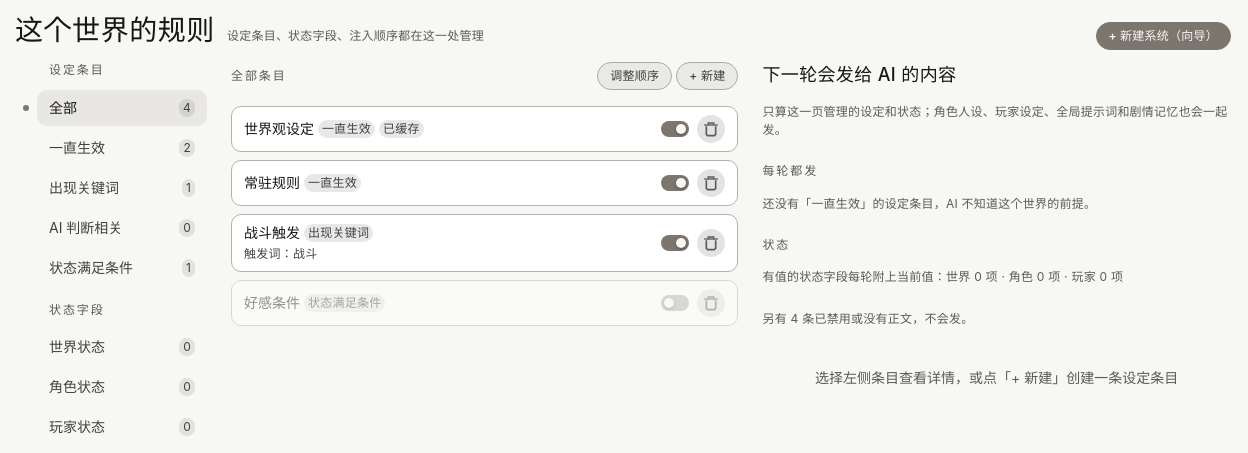
Test case: RulesPage › 点击状态条件后中栏只显示对应条目
This screenshot has width=1248, height=453.
What coordinates should you click on to do the following:
click the button with test id "nav-entries-state"
I would click on:
 (122, 268)
Its box is [37,250,207,286].
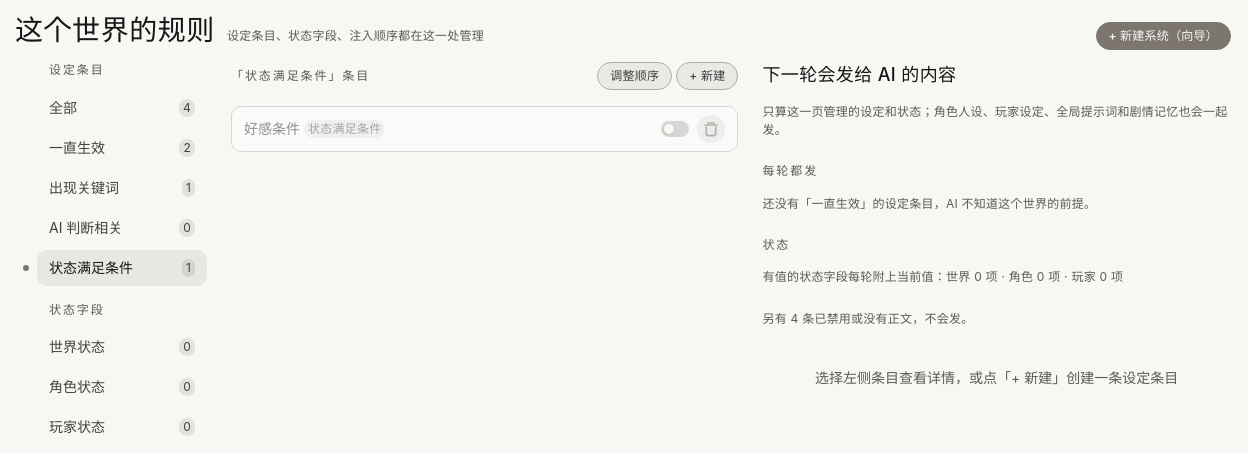
expect the text "好感条件" is shown: met, box [244,119,300,139]
expect the button "常驻规则" is gone: met
expect the button "世界观设定" is gone: met
